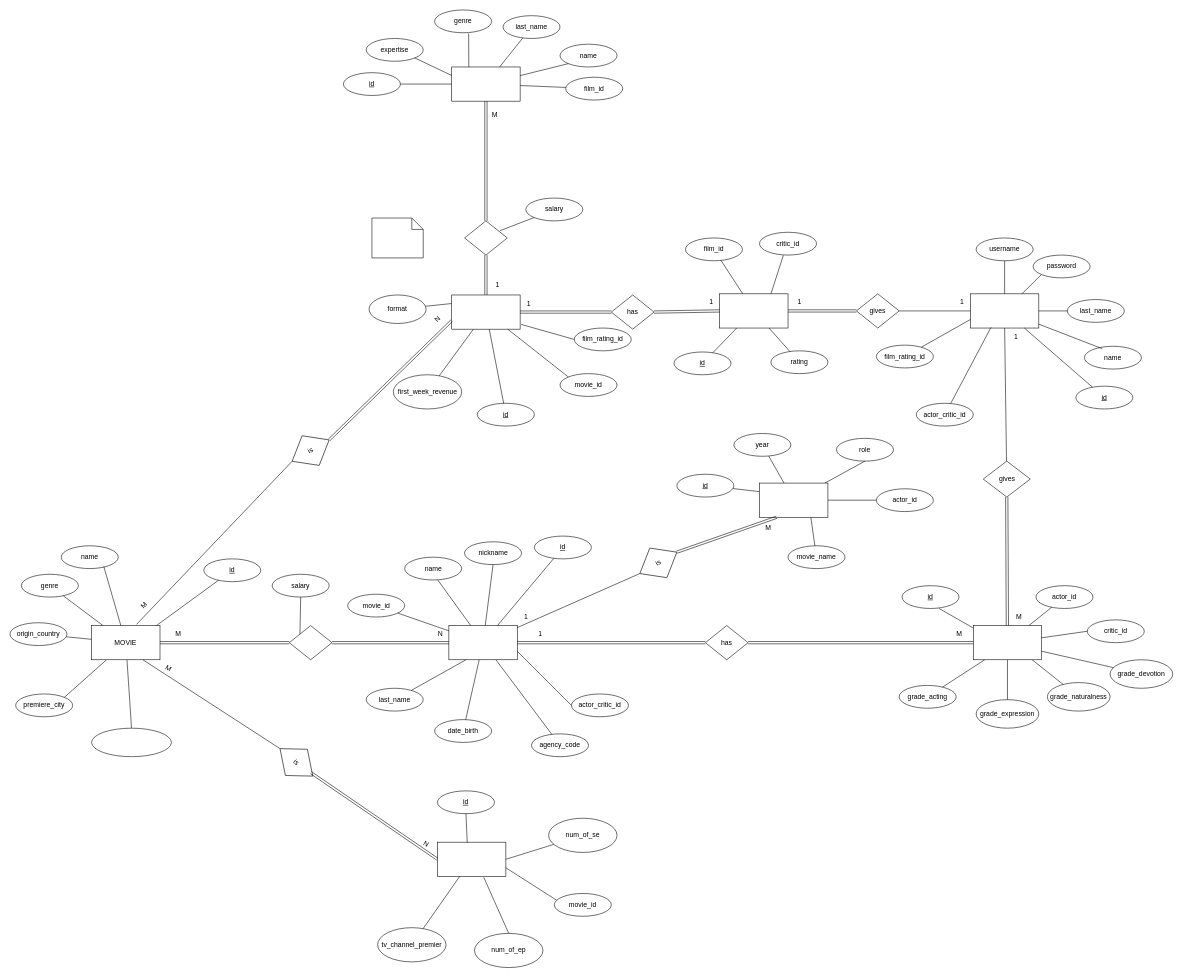
The diagram is 1183 pixels wide and 978 high, and some of its shapes have lost their labels. The shapes that lost their labels are listed below. From the top down, each one's box as (x1, y1, x2, y2) in pixels, then its label:
(451, 66, 520, 101): DIRECTOR
(371, 217, 423, 258): Format can be 2D or 3D
(464, 220, 507, 255): directed
(451, 294, 520, 329): FILM
(719, 293, 788, 328): FILM_RATING
(970, 293, 1039, 328): CRITIC
(759, 483, 828, 517): OSCAR_WINNER
(289, 625, 332, 660): acts
(448, 625, 517, 660): ACTOR
(973, 625, 1042, 660): ACTOR_CRITIC
(91, 728, 171, 757): production_company
(437, 842, 506, 876): TV_SHOW
